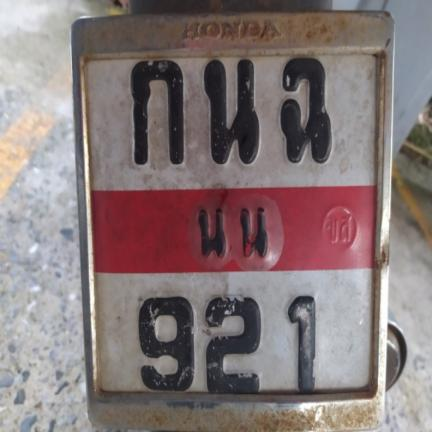1: (279, 287, 323, 393)
2: (202, 289, 263, 392)
9: (133, 292, 197, 392)
A01: (128, 60, 189, 171)
A09: (275, 58, 339, 164)
A25: (194, 57, 265, 166)
NBI: (185, 196, 275, 261)
